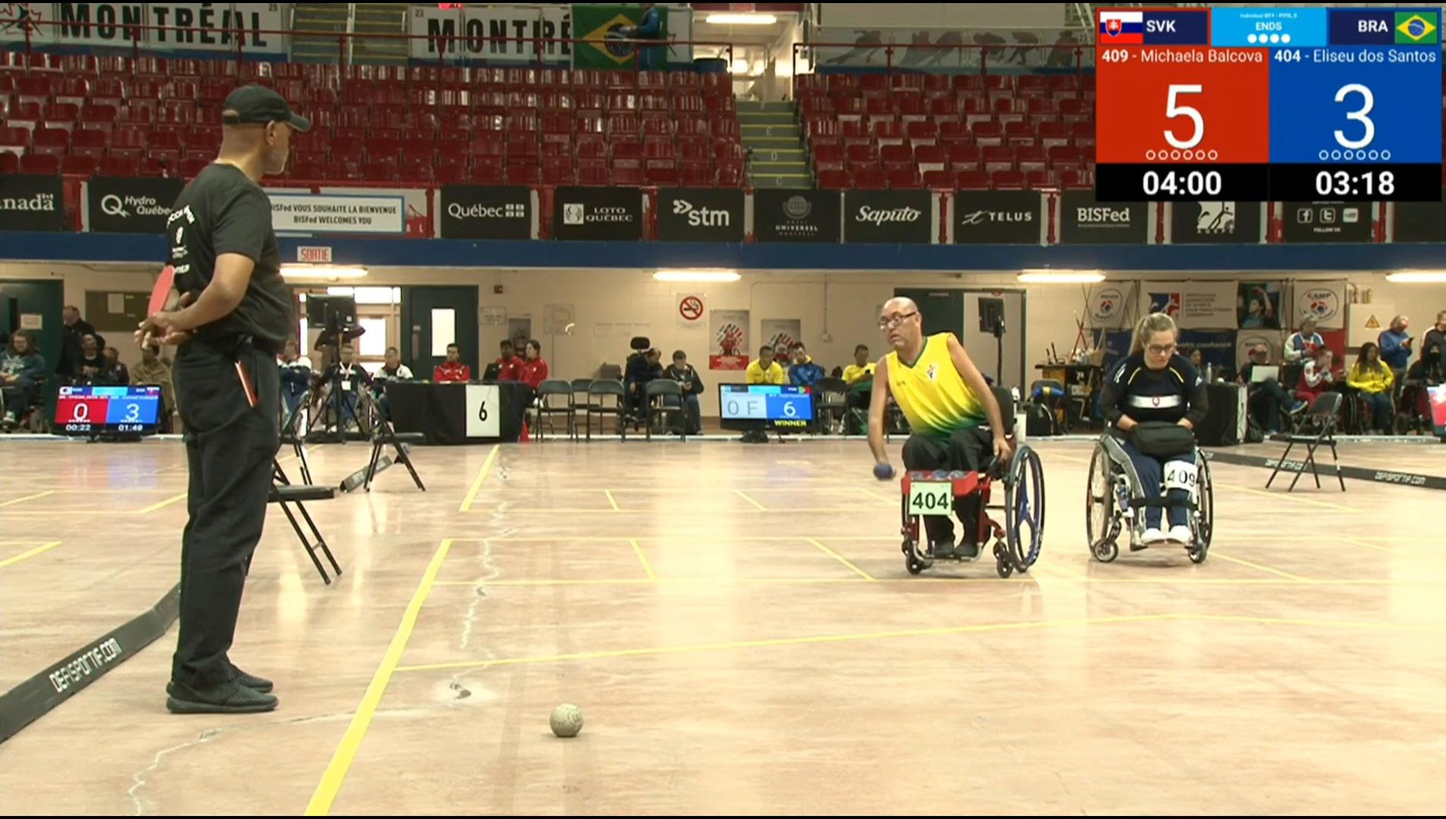blue_ball: (874, 462, 894, 480)
white_ball: (543, 701, 588, 743)
